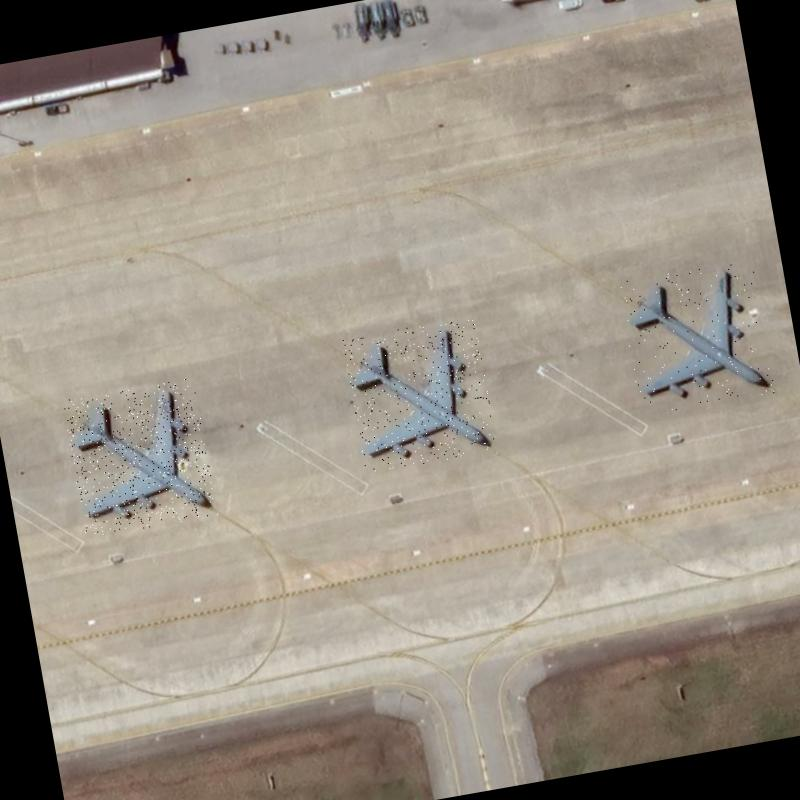A14: (618, 258, 776, 416), (62, 378, 218, 538), (342, 316, 499, 474)
